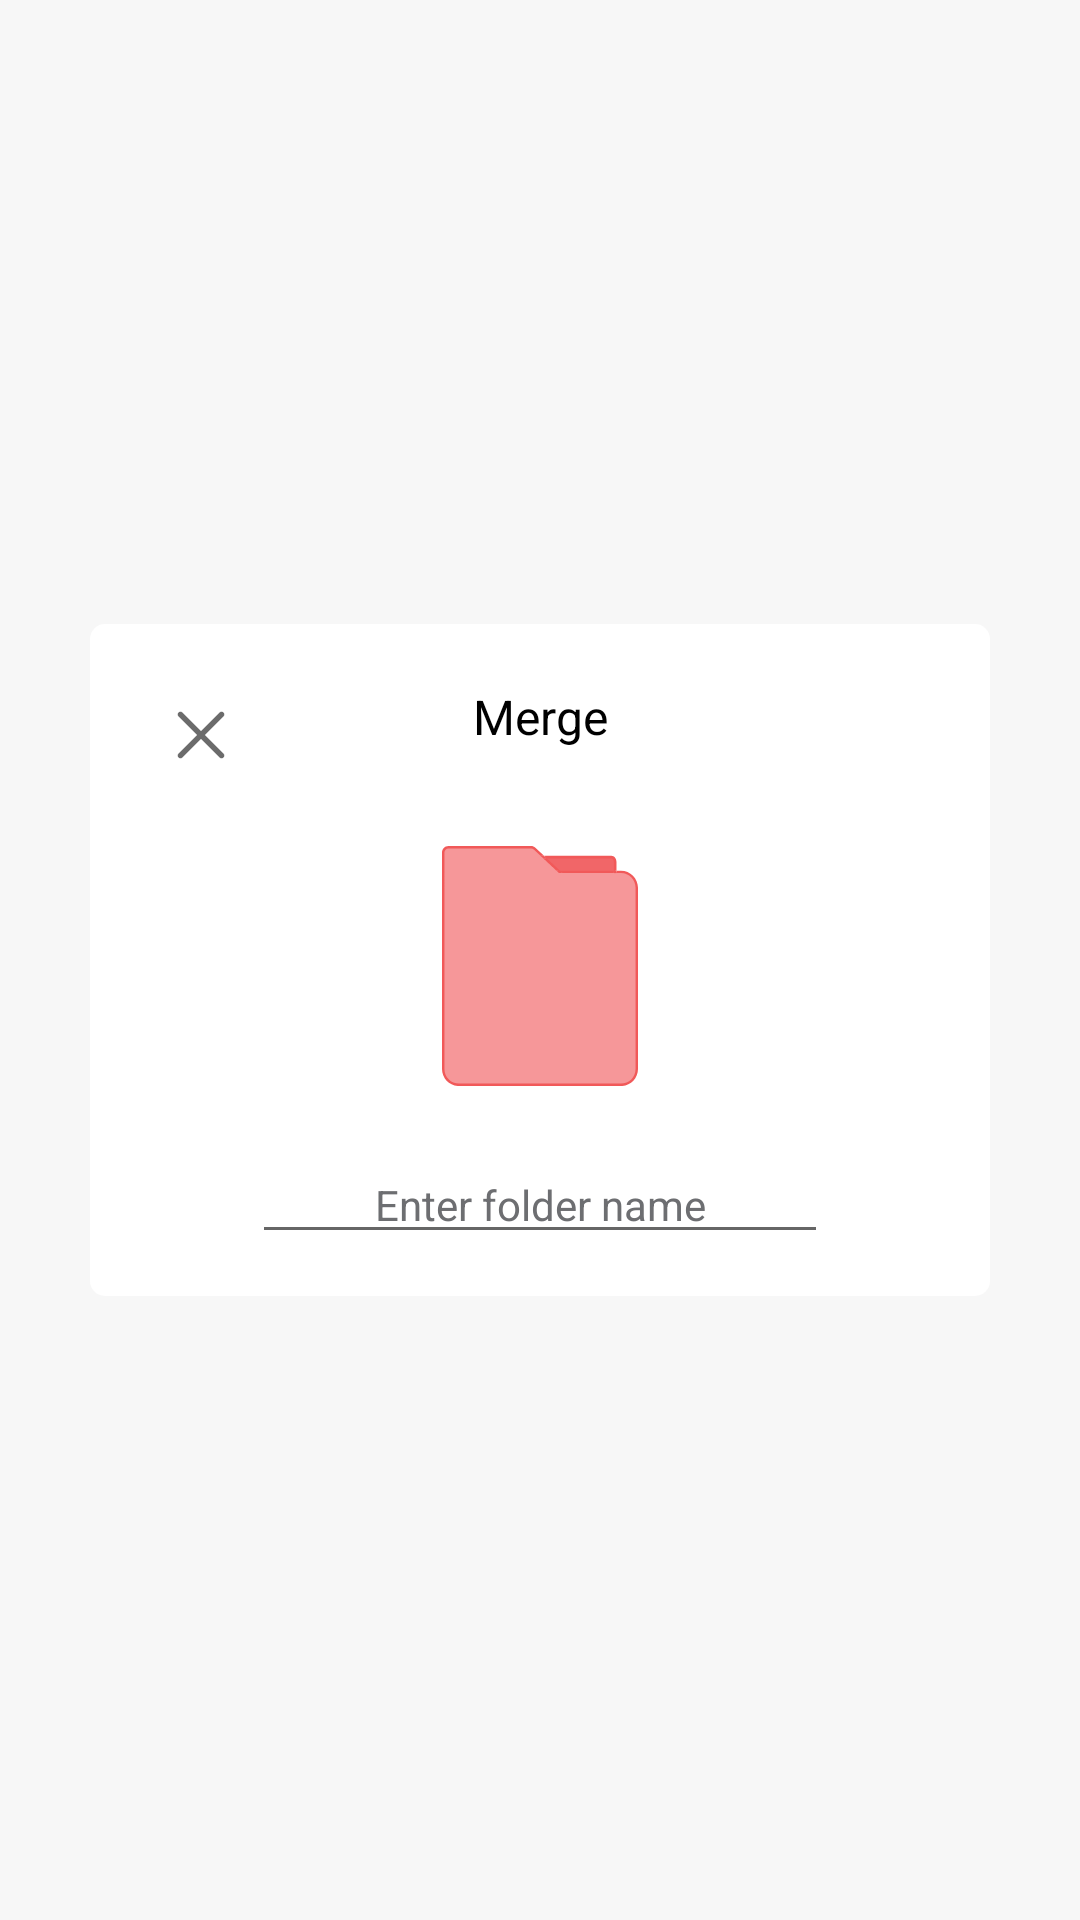

Icon bounding boxes for this 1080px x 1920px phone screenshot, format (x1,y1,x2,y2):
home folderlagre: (442,846,638,1086)
